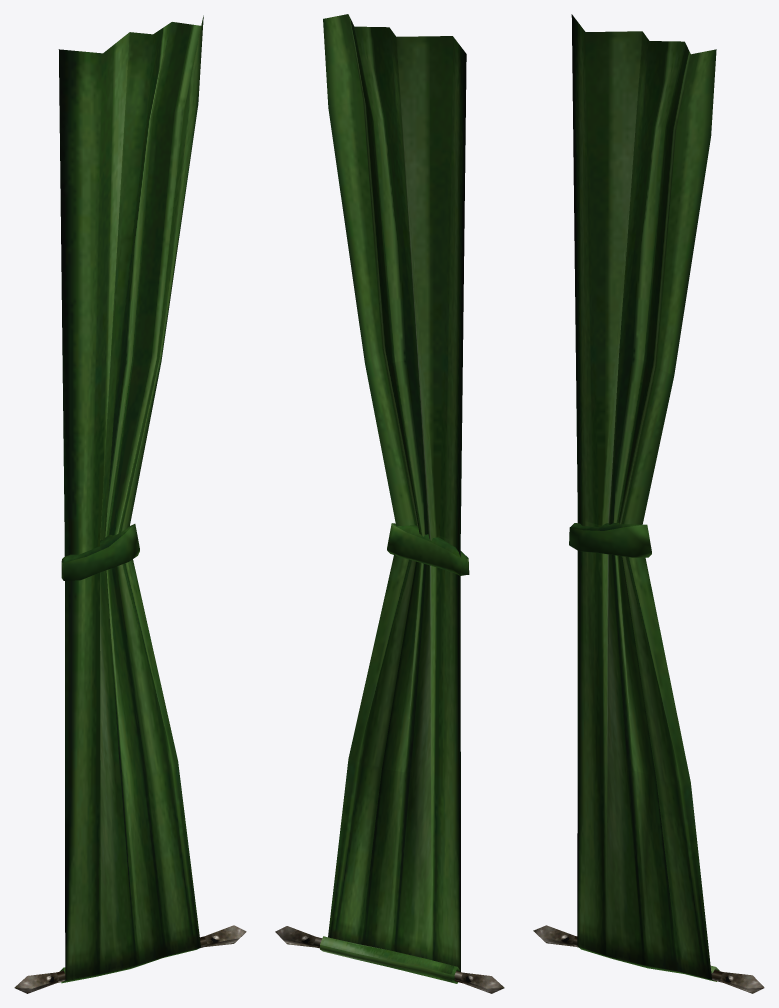
File: velvet_curtain_2story.fbx
The picture shows the model from 3 angles, left to right: view 1: azimuth 30°, elevation 25°; view 2: azimuth 150°, elevation 25°; view 3: azimuth 330°, elevation 25°; orthographic projection.
Visible parts, largest first — view 1: mesh_0; view 2: mesh_0; view 3: mesh_0.
Part boxes in pixels (x1,y1,x2,y2): mesh_0: (14, 15, 246, 993); mesh_0: (275, 14, 504, 993); mesh_0: (533, 14, 764, 993).
Bounding box in the file's own units: 207 × 800 × 35.88.
1 material, 1 textured.
